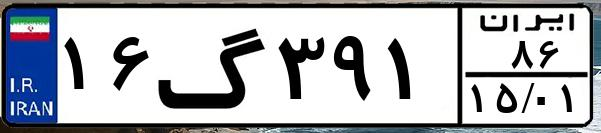0: (535, 70, 560, 125)
1: (385, 28, 445, 110), (57, 26, 110, 100), (560, 70, 590, 125), (470, 70, 495, 125)
3: (270, 28, 330, 110)
5: (495, 70, 520, 125)
6: (110, 28, 156, 98), (537, 27, 568, 80)
8: (508, 27, 537, 80)
9: (330, 28, 385, 110)
گ: (156, 12, 270, 120)
